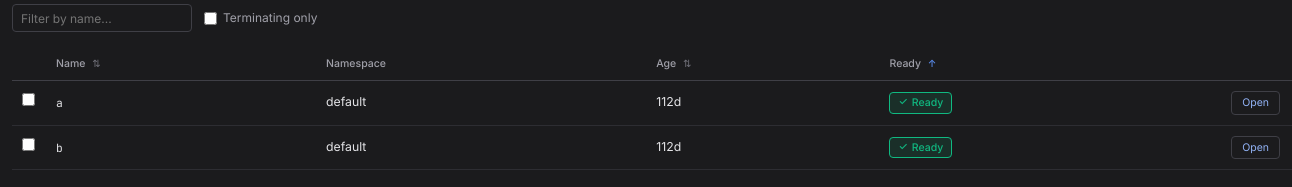
Test: InstanceTable › shows compare bar when 2 items exist and one is selected
Click the checkbox with test id "select-a" at (28, 100), box 22,93 -> 34,106
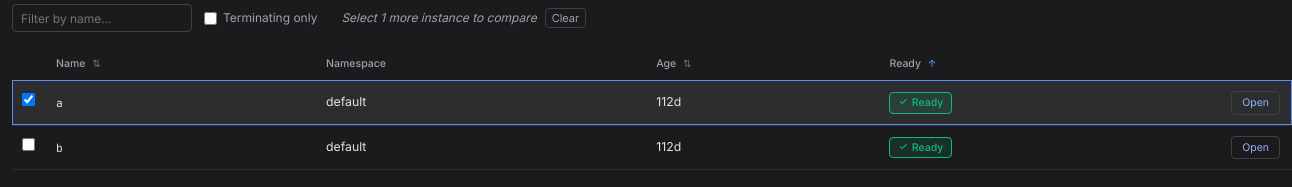
Check: the element with test id "compare-bar" is shown, box 341,8 -> 586,28
